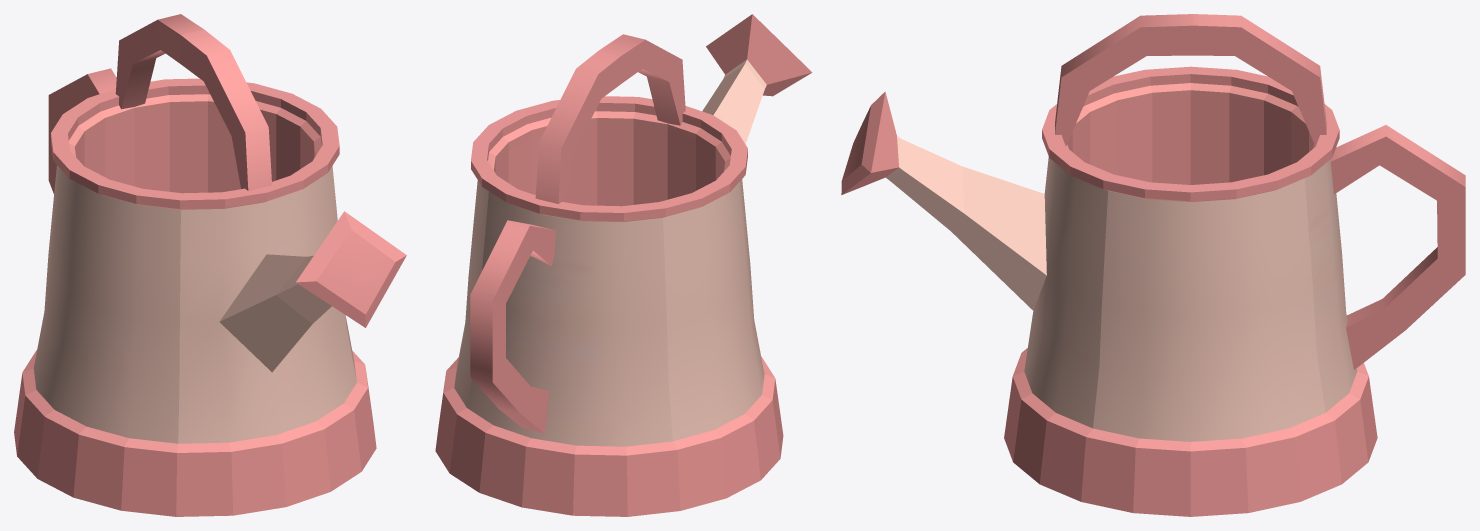
The model's file is Watering_can.fbx.
3 views of the same model, side by side, from view 1: azimuth 30°, elevation 25°; view 2: azimuth 150°, elevation 25°; view 3: azimuth 270°, elevation 25° (orthographic). The views are drawn at different scales.
Visible parts, largest first — view 1: Wateringcan; view 2: Wateringcan; view 3: Wateringcan.
Boxes of the visible parts, <box> form: Wateringcan: <box>14,14,406,516</box>; Wateringcan: <box>435,14,812,516</box>; Wateringcan: <box>841,14,1465,516</box>.
Size of the model in its own units: 0.9669 by 1.19 by 1.61.
